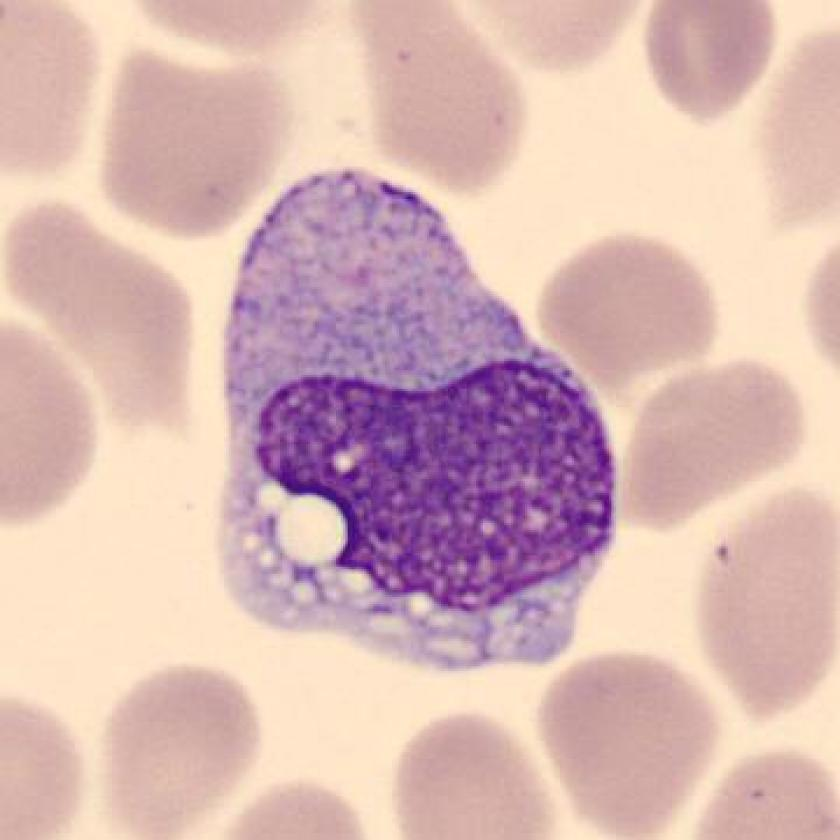monocyte: (190, 152, 640, 691)
